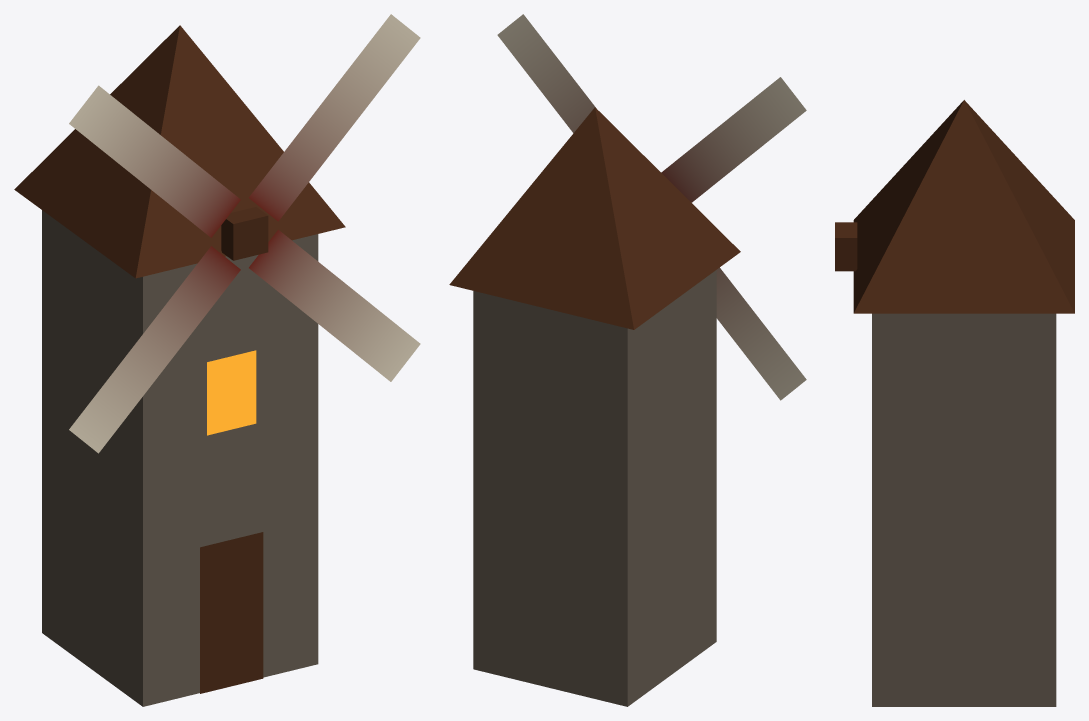
The model's file is windmill.fbx.
The picture shows the model from 3 angles, left to right: view 1: azimuth 30°, elevation 25°; view 2: azimuth 150°, elevation 25°; view 3: azimuth 270°, elevation 25°; orthographic projection. The views are drawn at different scales.
Visible parts, largest first — view 1: Tower, Sails, Cap; view 2: Tower, Cap, Sails; view 3: Tower, Cap, Sails.
Part boxes in pixels (bbox=[...]): Tower: bbox=[42, 210, 318, 706]; Sails: bbox=[69, 14, 420, 453]; Cap: bbox=[14, 25, 345, 278]; Tower: bbox=[473, 270, 716, 706]; Cap: bbox=[449, 107, 740, 329]; Sails: bbox=[497, 14, 806, 400]; Tower: bbox=[872, 313, 1056, 706]; Cap: bbox=[853, 100, 1074, 313]; Sails: bbox=[835, 222, 857, 271].
Bounding box in the file's own units: 201 × 130 × 352.
